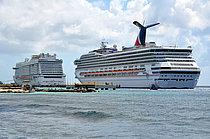Ship: (70, 40, 205, 92), (11, 49, 70, 92)
